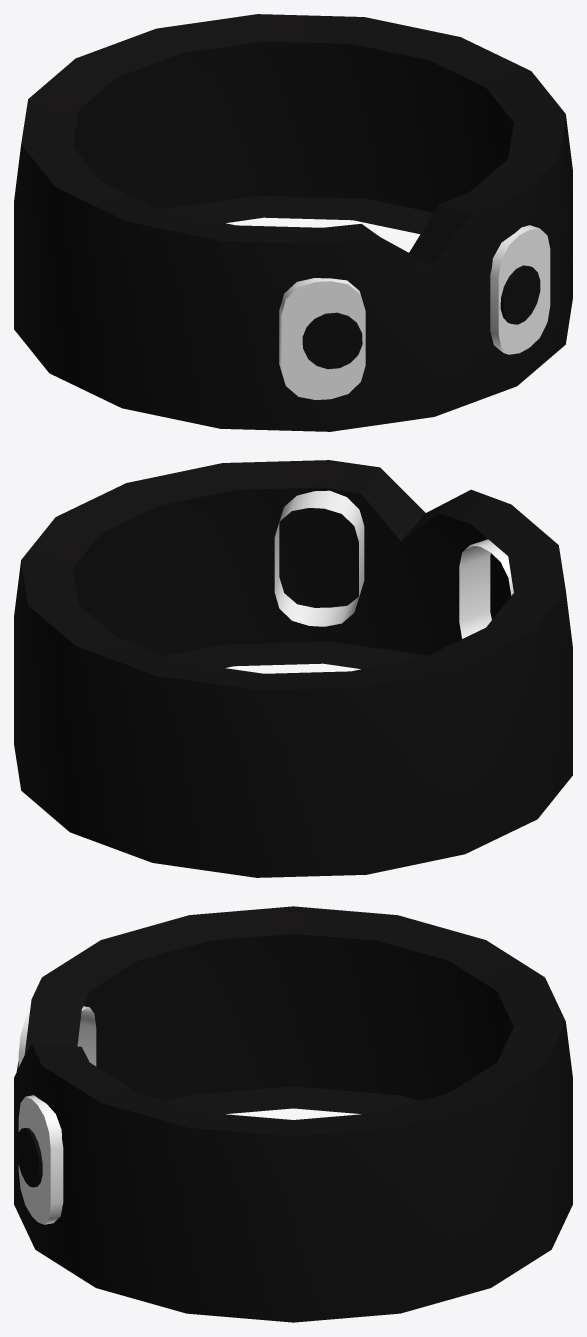
Rendered from Eyes_Thief_Eye_Mask_01.fbx.
The picture shows the model from 3 angles, top to bottom: view 1: azimuth 30°, elevation 25°; view 2: azimuth 150°, elevation 25°; view 3: azimuth 270°, elevation 25°; orthographic projection.
Visible parts, largest first — view 1: Eyes_Thief_Eye_Mask_01; view 2: Eyes_Thief_Eye_Mask_01; view 3: Eyes_Thief_Eye_Mask_01.
Boxes of the visible parts, x1=… form: Eyes_Thief_Eye_Mask_01: x1=14, y1=14, x2=572, y2=431; Eyes_Thief_Eye_Mask_01: x1=14, y1=460, x2=572, y2=877; Eyes_Thief_Eye_Mask_01: x1=14, y1=906, x2=572, y2=1322.
Size of the model in its own units: 109 by 39.39 by 109.
